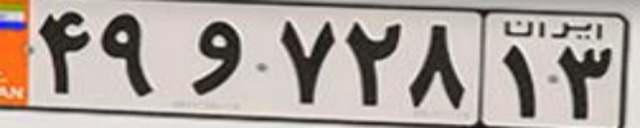1: (501, 45, 538, 118)
2: (345, 20, 401, 107)
3: (555, 45, 612, 120)
4: (39, 9, 91, 94)
7: (280, 18, 335, 104)
8: (407, 23, 465, 109)
9: (100, 13, 151, 96)
vav: (189, 20, 243, 95)
